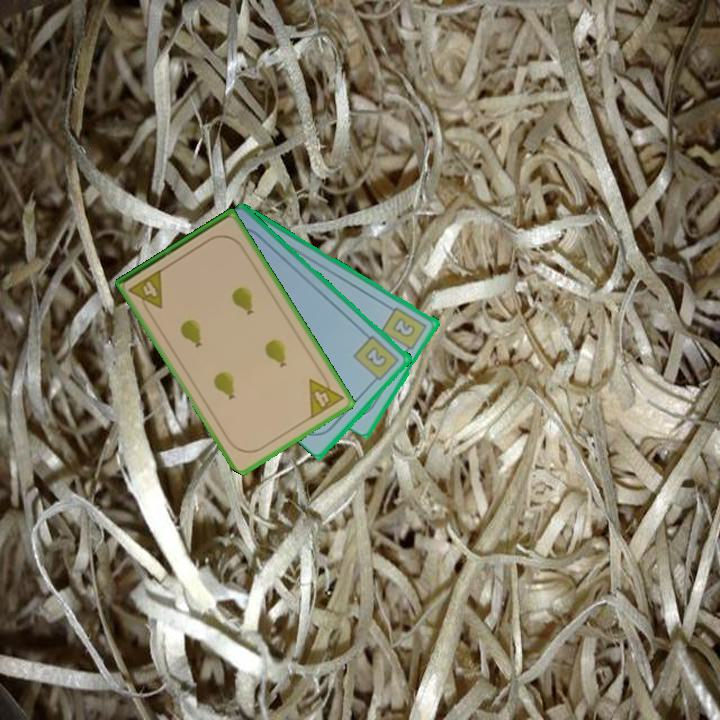2b: (350, 332, 402, 387), (379, 303, 430, 357)
4p: (305, 368, 346, 422), (125, 266, 166, 317)
